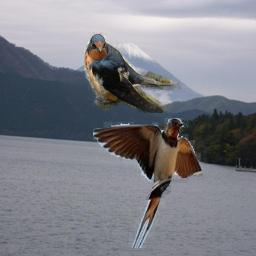Swallow: (93, 118, 203, 248), (84, 32, 181, 113)
